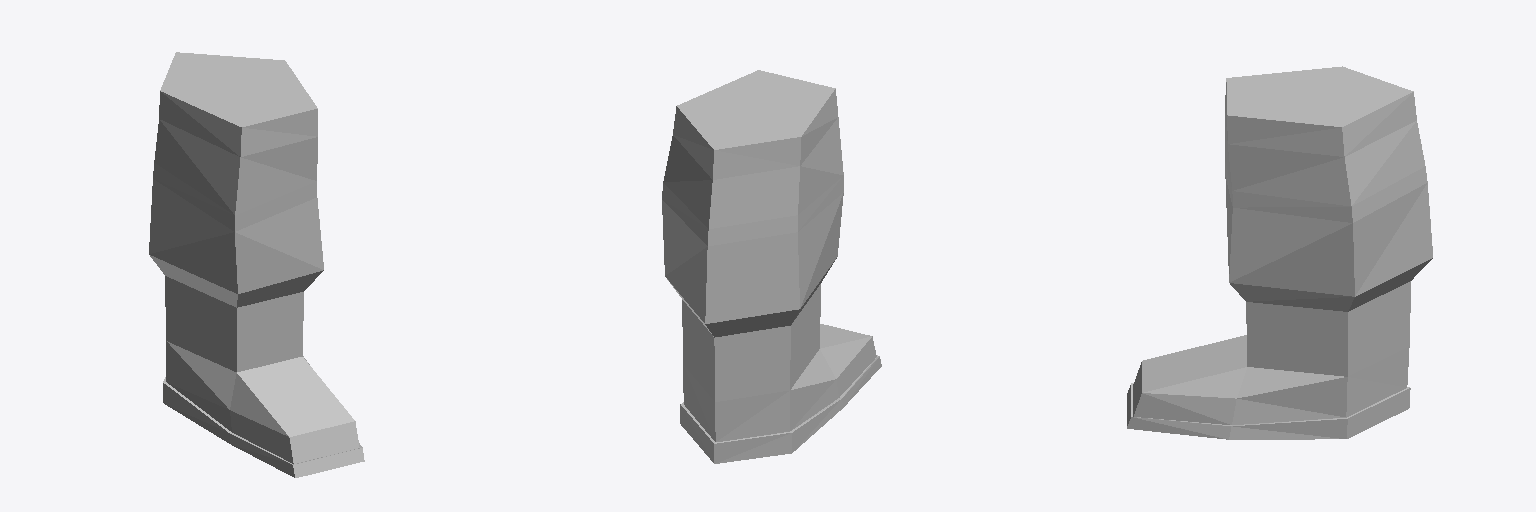
The model's file is astronauta_reloded_leftlegbot.obj.
3 views of the same model, side by side, from view 1: azimuth 30°, elevation 25°; view 2: azimuth 150°, elevation 25°; view 3: azimuth 270°, elevation 25° (orthographic).
Parts seen in each view (by area): view 1: Astronauta_Cubo; view 2: Astronauta_Cubo; view 3: Astronauta_Cubo.
Boxes of the visible parts, x1=… form: Astronauta_Cubo: x1=149, y1=52, x2=364, y2=477; Astronauta_Cubo: x1=662, y1=70, x2=881, y2=463; Astronauta_Cubo: x1=1127, y1=66, x2=1432, y2=439.
Bounding box in the file's own units: 0.1563 × 0.3389 × 0.298.